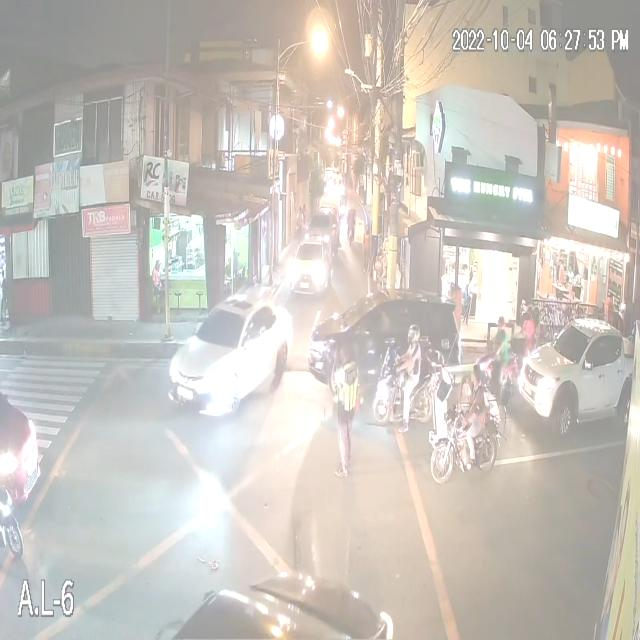Full-Faced: (489, 312, 512, 337), (406, 324, 422, 346)
